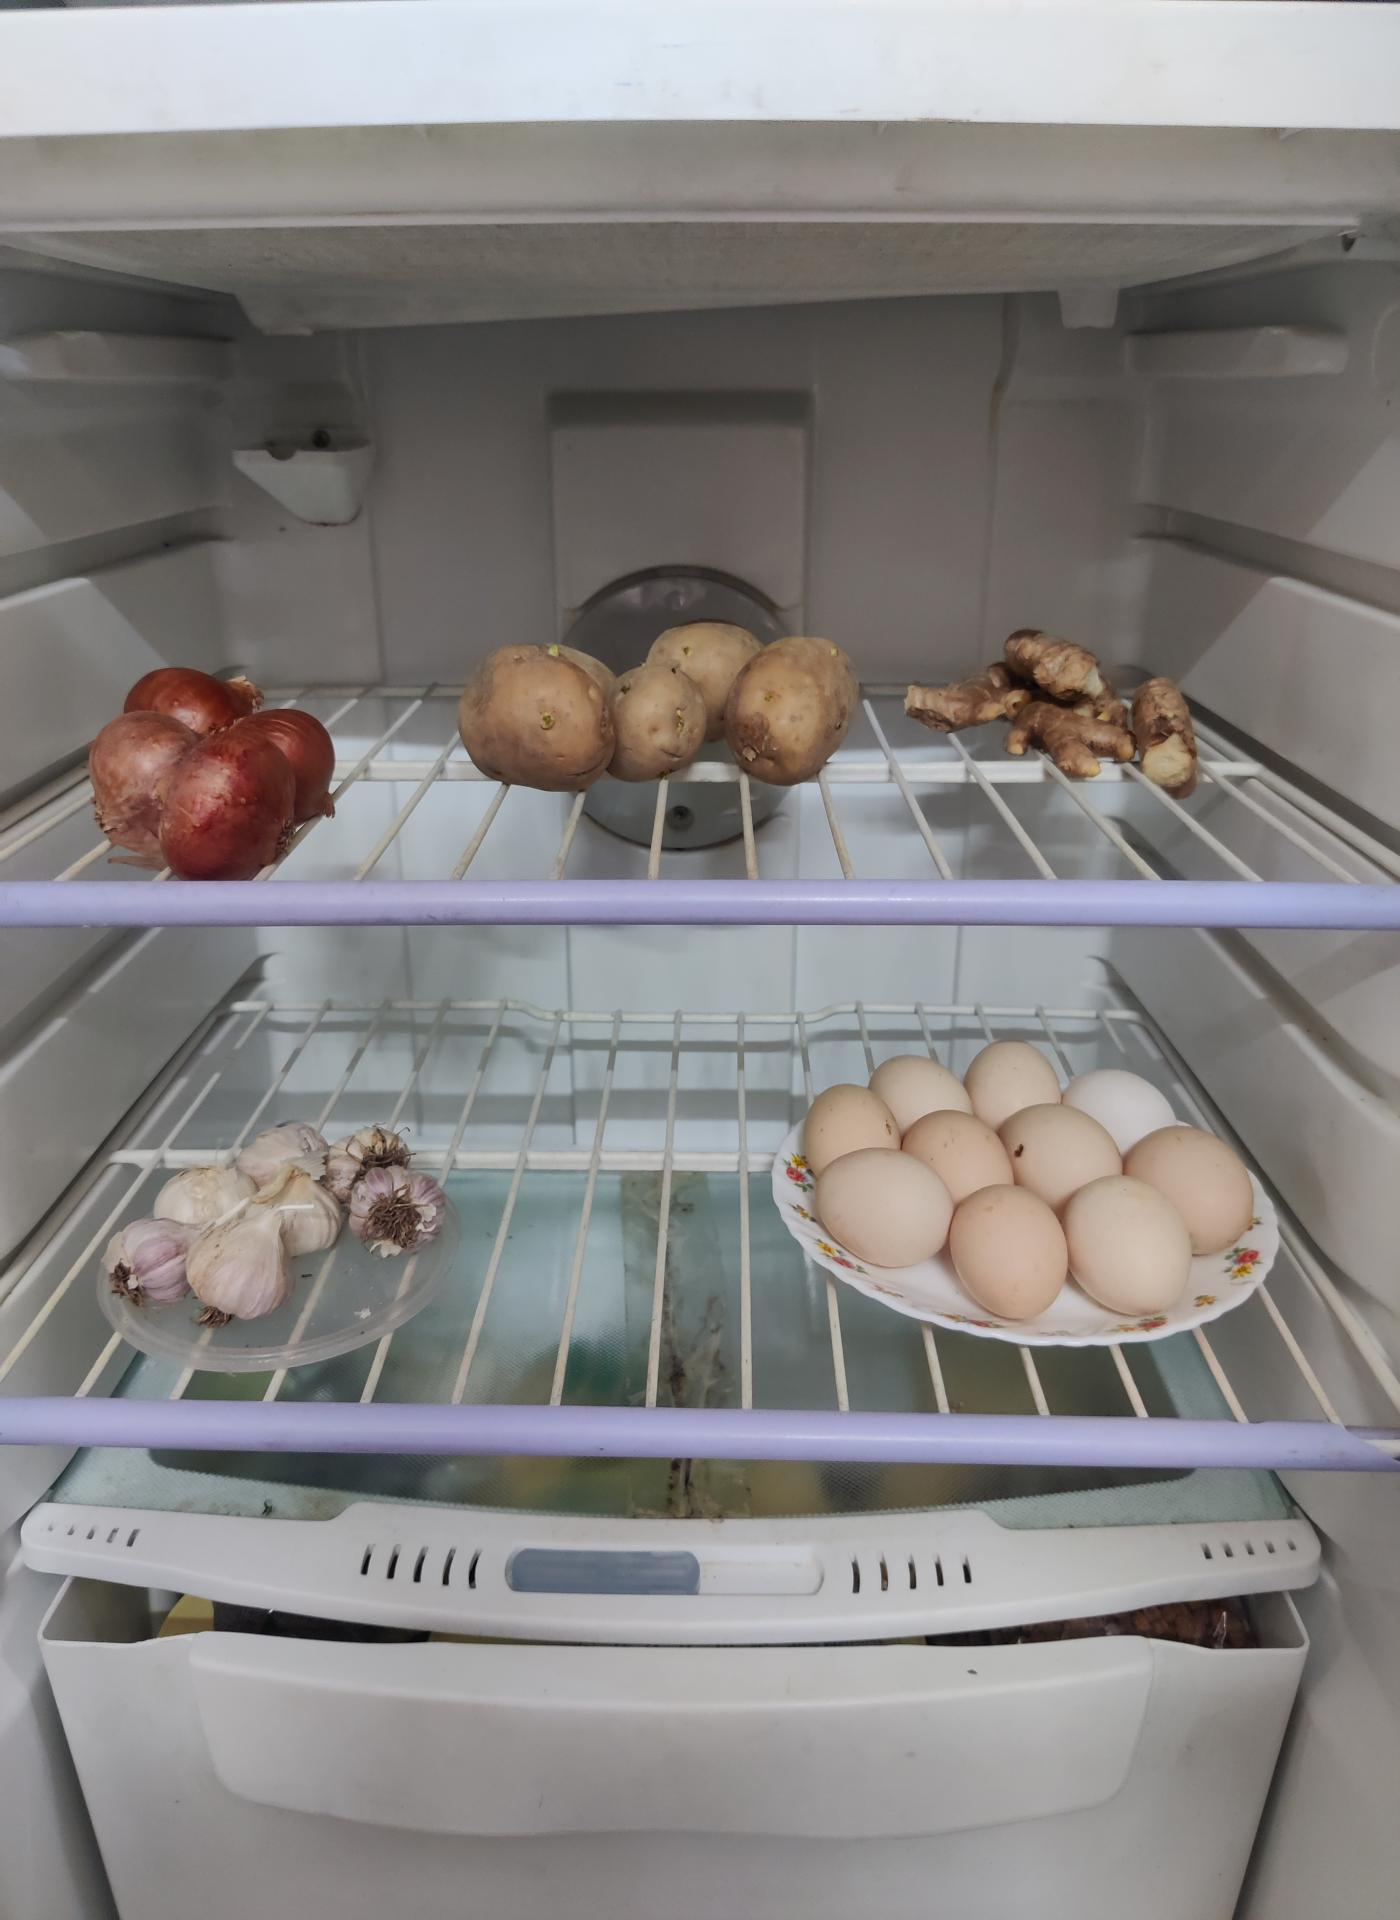egg: (792, 1038, 1257, 1327)
garlic: (107, 1117, 349, 1319), (325, 1124, 450, 1255)
ginger: (906, 631, 1206, 783)
onion: (86, 668, 335, 882)
potato: (458, 616, 859, 780)
